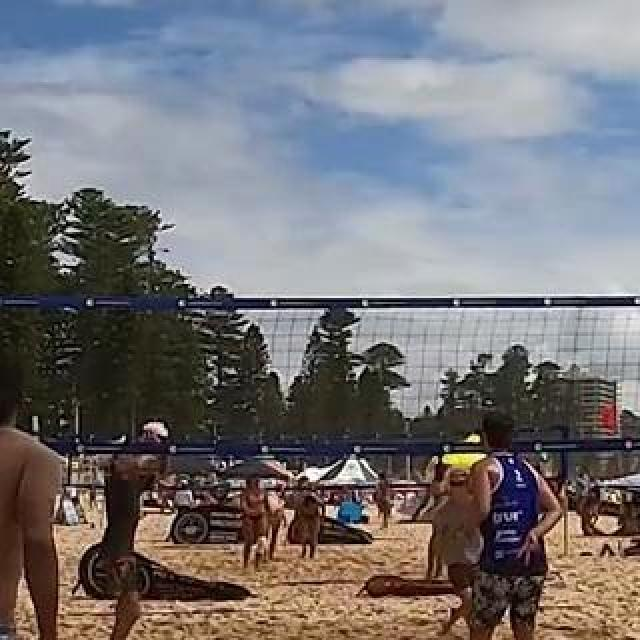volleyball: (140, 421, 170, 451)
